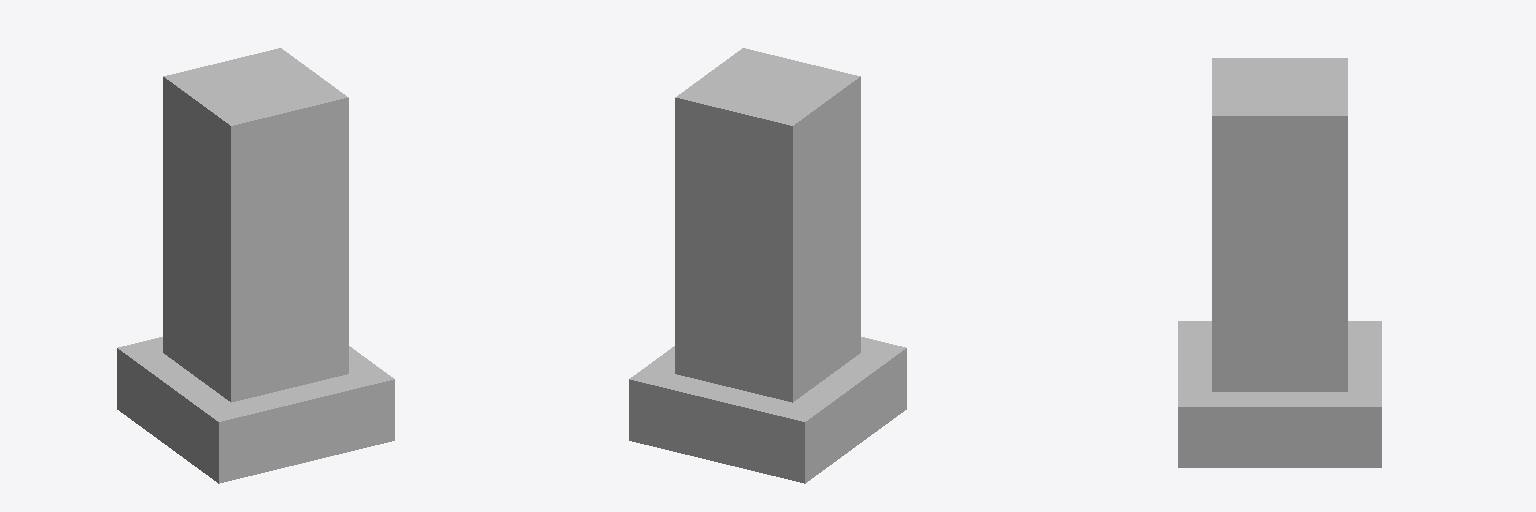
Rendered from pin.obj.
3 renders of one model, left to right at view 1: azimuth 30°, elevation 25°; view 2: azimuth 150°, elevation 25°; view 3: azimuth 270°, elevation 25°, orthographic.
Parts seen in each view (by area): view 1: cube.018, cube.017; view 2: cube.018, cube.017; view 3: cube.018, cube.017.
Boxes of the visible parts, x1,y1,x2,y2 form: cube.018: [163, 48, 348, 402]; cube.017: [117, 337, 394, 483]; cube.018: [675, 48, 860, 402]; cube.017: [629, 337, 906, 483]; cube.018: [1212, 58, 1347, 391]; cube.017: [1178, 321, 1381, 467].
Size of the model in its own units: 0.375 by 0.6875 by 0.375.